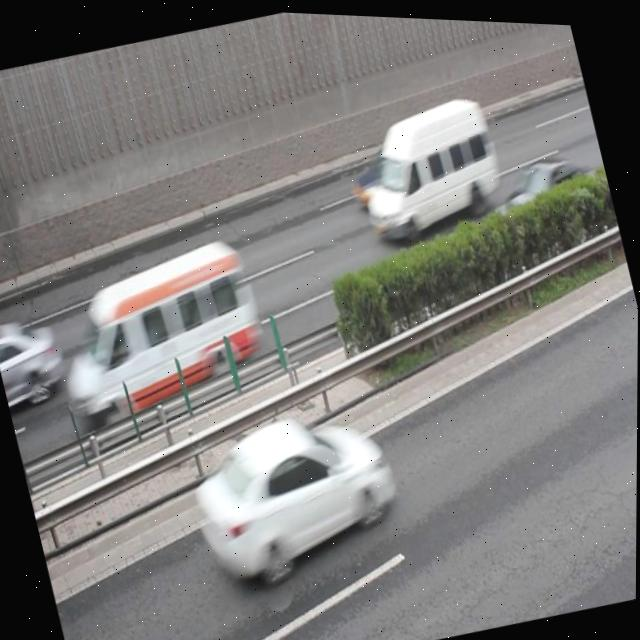car: (178, 395, 406, 595), (493, 140, 606, 232), (343, 135, 446, 214), (0, 310, 71, 420)
truck: (43, 229, 272, 433), (347, 88, 505, 242)
